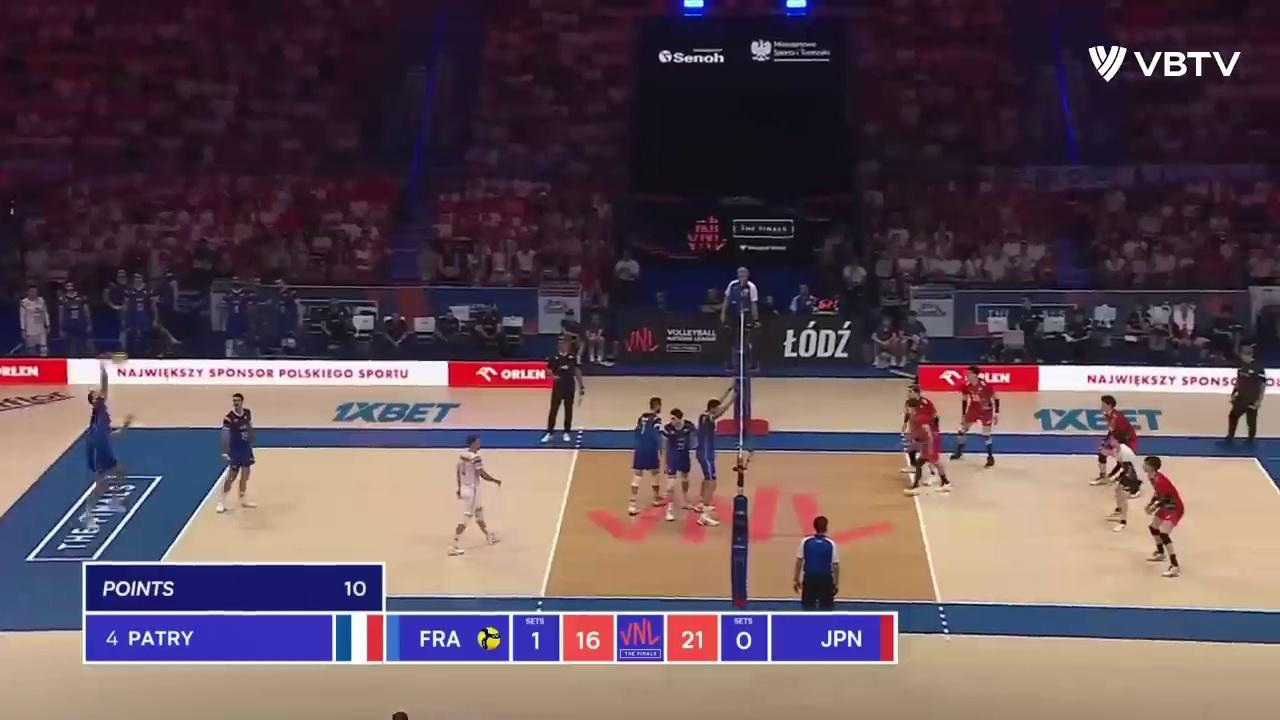ball: (107, 352, 129, 365)
